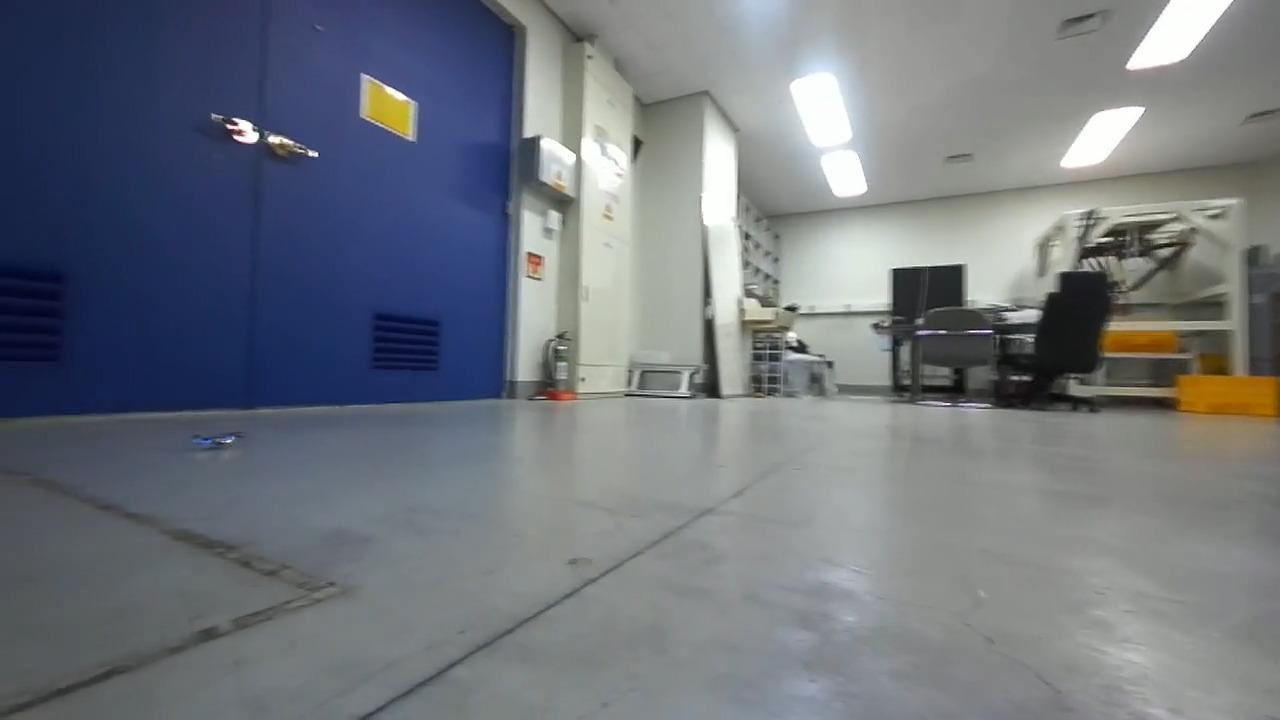crazyflie: (184, 425, 251, 456)
